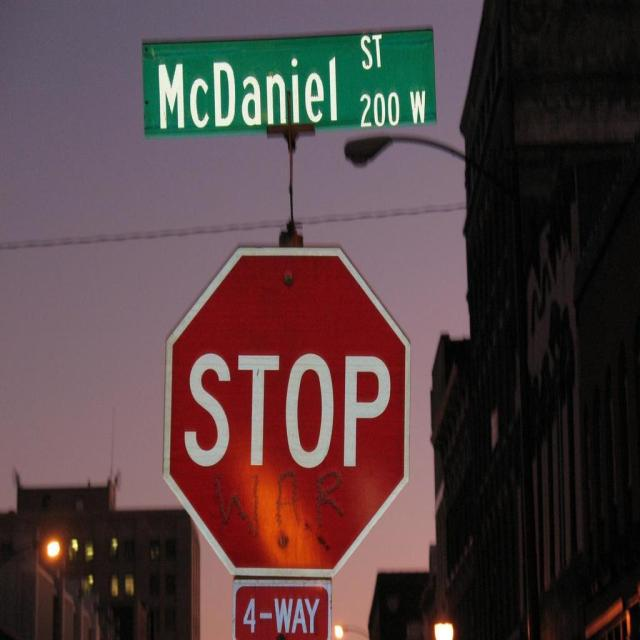Stop-sign: (162, 246, 412, 581)
